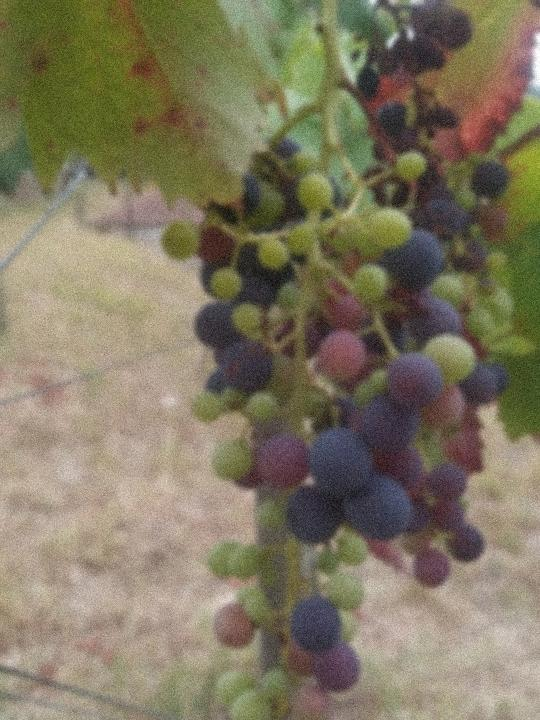grape: (159, 134, 514, 720), (346, 0, 478, 208)
